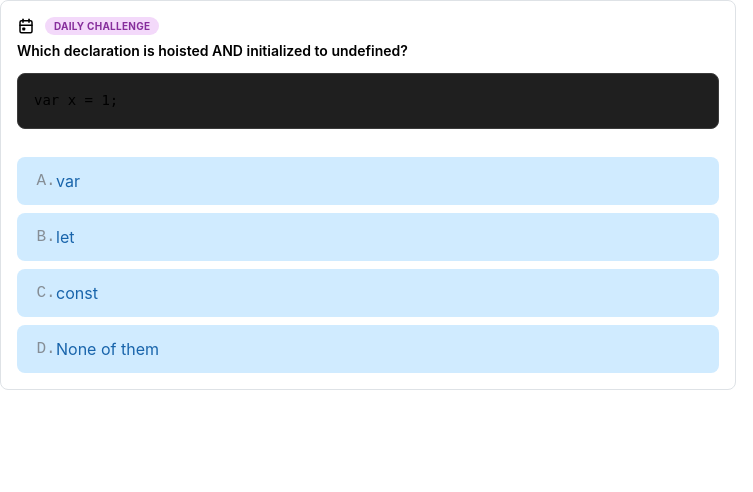
Test: DailyQuestionCard › shows Correct feedback with the explanation on a right answer
Click the button with test id "daily-answer-0" at (41, 181), box [17,157,719,205]
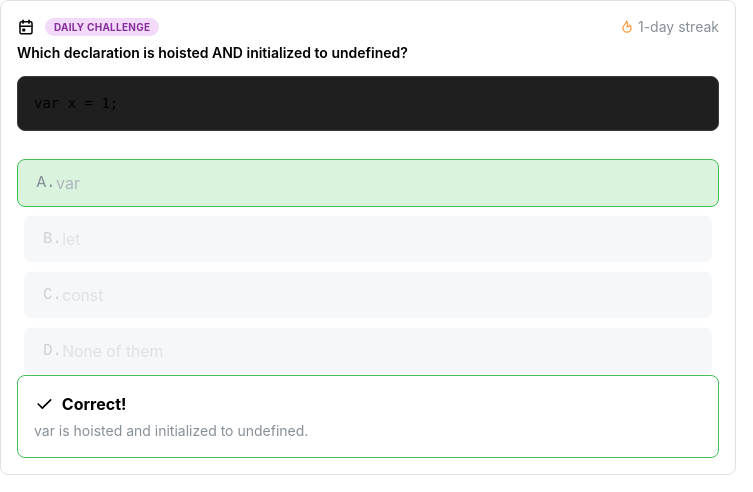
Result: the text "Correct!" is shown at [34,394,126,414]
Result: the text "var is hoisted and initialized to undefined." is shown at [34,422,308,439]
